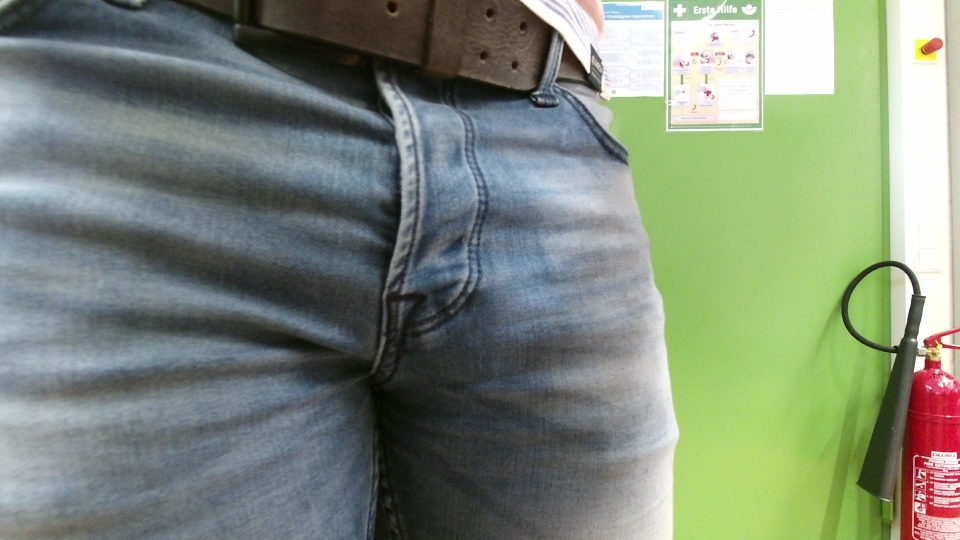person: (1, 4, 698, 540)
